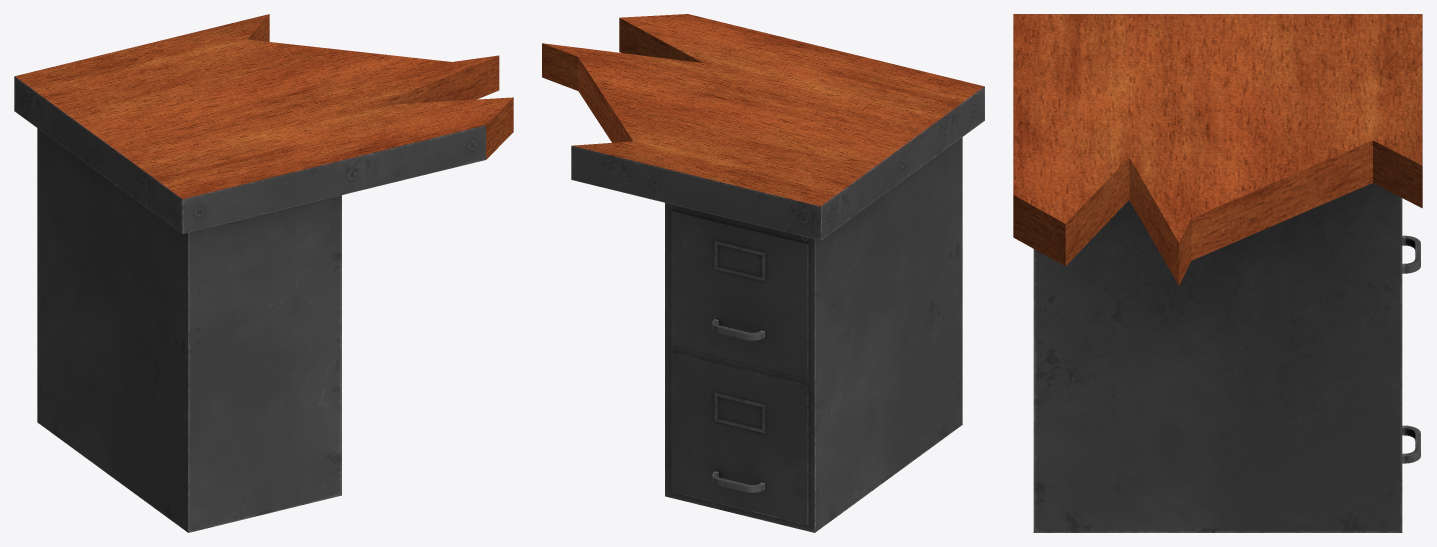
Rendered from DebrisOfficeDesk1.fbx.
3 renders of one model, left to right at view 1: azimuth 30°, elevation 25°; view 2: azimuth 150°, elevation 25°; view 3: azimuth 270°, elevation 25°, orthographic. The views are drawn at different scales.
Parts seen in each view (by area): view 1: DebrisOfficeDesk1; view 2: DebrisOfficeDesk1; view 3: DebrisOfficeDesk1.
Boxes of the visible parts, x1,y1,x2,y2 form: DebrisOfficeDesk1: (14,14,513,532); DebrisOfficeDesk1: (542,14,984,532); DebrisOfficeDesk1: (1013,14,1422,532).
Bounding box in the file's own units: 60.84 × 68.7 × 80.6.
